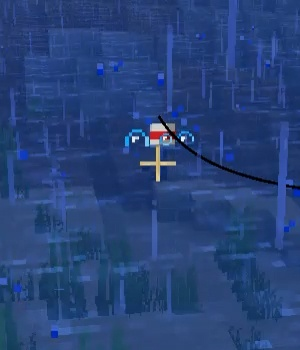up: (148, 115, 179, 159)
